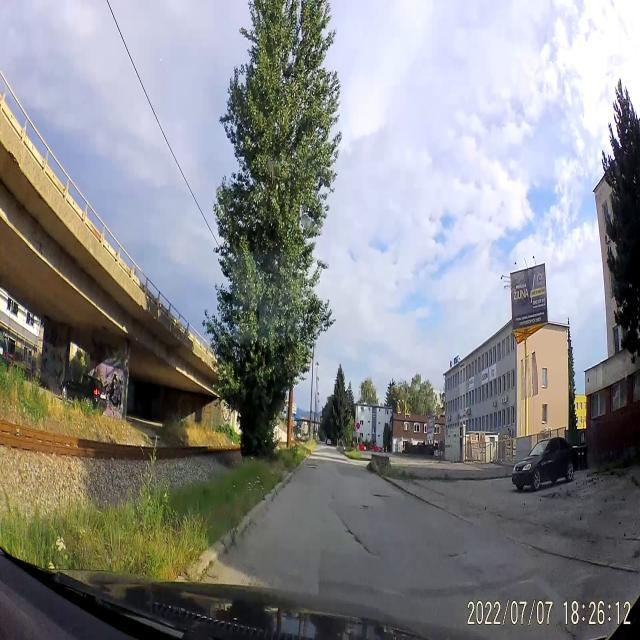Pothole: (342, 518, 375, 560), (448, 546, 470, 561), (372, 489, 392, 502), (358, 501, 372, 512), (306, 461, 318, 471)
